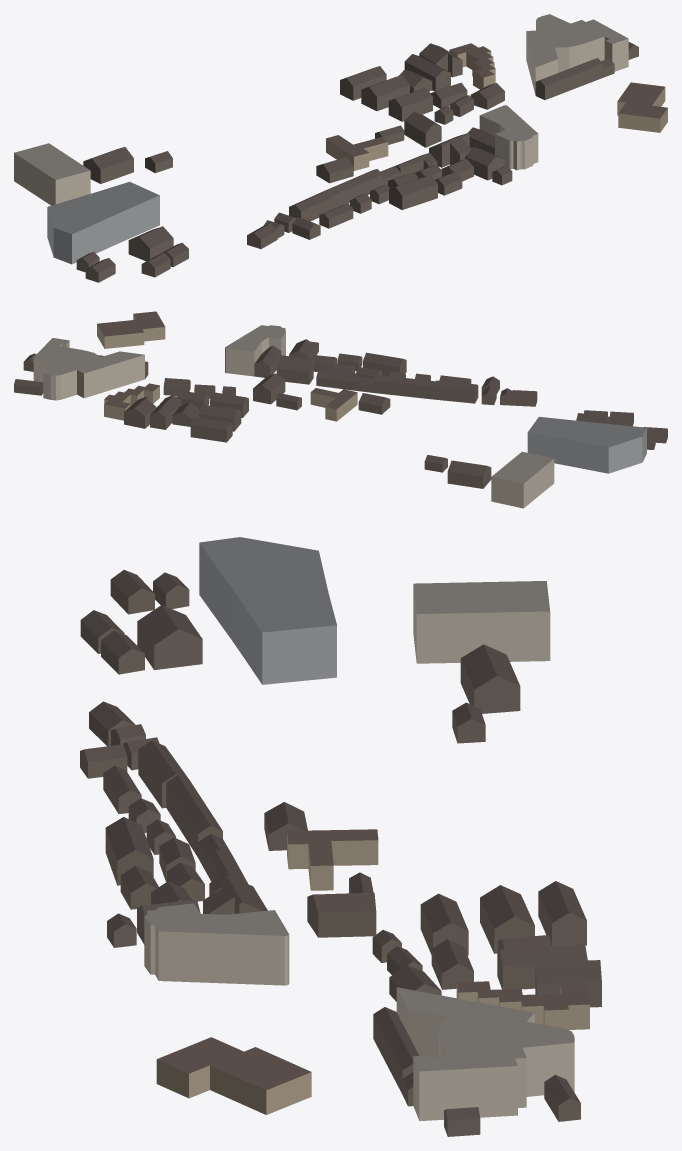
File: tile_0_7.glb
The picture shows the model from 3 angles, top to bottom: view 1: azimuth 30°, elevation 25°; view 2: azimuth 150°, elevation 25°; view 3: azimuth 270°, elevation 25°; orthographic projection. The views are drawn at different scales.
Parts seen in each view (by area): view 1: HP-w1200769508, HP-w1200756572, HP-w1200814971, HP-w442103681, HP-w442103683, HP-w1200756573, HP-w1200721933, HP-w1200814970, HP-w1200765944, HP-w1200785663, HP-w530199017, HP-w1200769503 (+23 smaller); view 2: HP-w1200769508, HP-w1200756572, HP-w1200814971, HP-w442103681, HP-w442103683, HP-w1200835403, HP-w1200721933, HP-w1200765944, HP-w1200814970, HP-w1200835400, HP-w1200765943, HP-w1200835399 (+20 smaller); view 3: HP-w1200756572, HP-w1200769508, HP-w1200814971, HP-w442103681, HP-w442103683, HP-w1200721933, HP-w1200765944, HP-w1200814970, HP-w1200769503, HP-w1200814976, HP-w1200765943, HP-w530199017 (+25 smaller).
Boxes of the visible parts, x1,y1,x2,y2 form: HP-w1200769508: (47, 181, 159, 264); HP-w1200756572: (526, 14, 628, 94); HP-w1200814971: (14, 143, 90, 205); HP-w442103681: (479, 105, 538, 170); HP-w442103683: (617, 82, 667, 132); HP-w1200756573: (535, 58, 602, 99); HP-w1200721933: (326, 135, 388, 170); HP-w1200814970: (83, 147, 133, 183); HP-w1200765944: (449, 43, 495, 89); HP-w1200785663: (389, 175, 437, 209); HP-w530199017: (361, 75, 409, 111); HP-w1200769503: (128, 226, 173, 261); HP-w1200769508: (527, 416, 646, 473); HP-w1200756572: (33, 338, 144, 400); HP-w1200814971: (491, 451, 554, 508); HP-w442103681: (225, 325, 285, 376); HP-w442103683: (97, 311, 165, 348); HP-w1200835403: (373, 374, 435, 399); HP-w1200721933: (310, 388, 357, 421); HP-w1200765944: (104, 383, 159, 420); HP-w1200814970: (447, 460, 491, 488); HP-w1200835400: (276, 355, 313, 384); HP-w1200765943: (190, 416, 232, 442); HP-w1200835399: (434, 380, 478, 403); HP-w1200756572: (396, 987, 574, 1121); HP-w1200769508: (199, 537, 336, 684); HP-w1200814971: (413, 581, 550, 663); HP-w442103681: (144, 903, 289, 985); HP-w442103683: (156, 1037, 311, 1114); HP-w1200721933: (287, 829, 378, 890); HP-w1200765944: (456, 981, 589, 1029); HP-w1200814970: (460, 644, 520, 713); HP-w1200769503: (137, 605, 202, 670); HP-w1200814976: (307, 892, 376, 937); HP-w1200765943: (538, 881, 586, 946); HP-w530199017: (480, 885, 534, 953).
Bounding box in the file's own units: 426 × 19 × 172.
